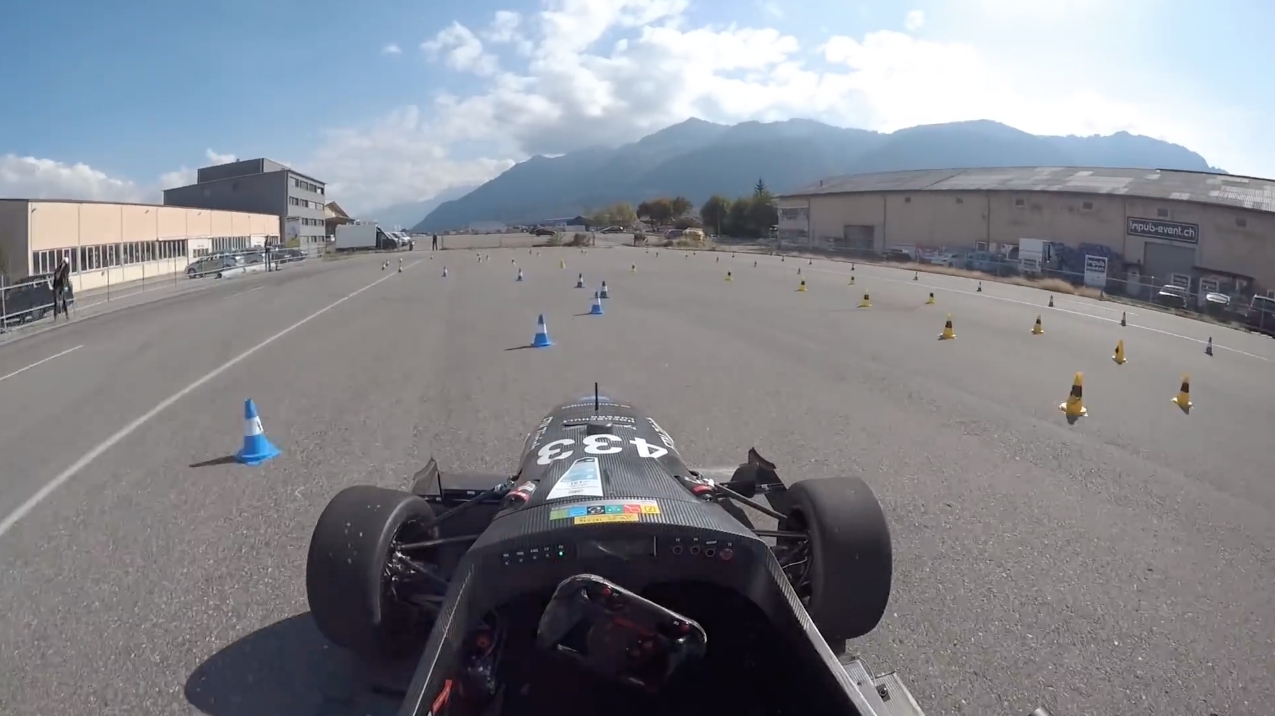lcone: (223, 394, 286, 469), (526, 310, 558, 353), (586, 288, 608, 319)
rcone: (1053, 365, 1094, 422), (1169, 372, 1198, 411), (937, 310, 961, 343)
